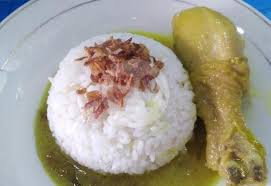Nasi putih: (52, 32, 192, 174)
Opor ayam: (169, 6, 271, 183)
